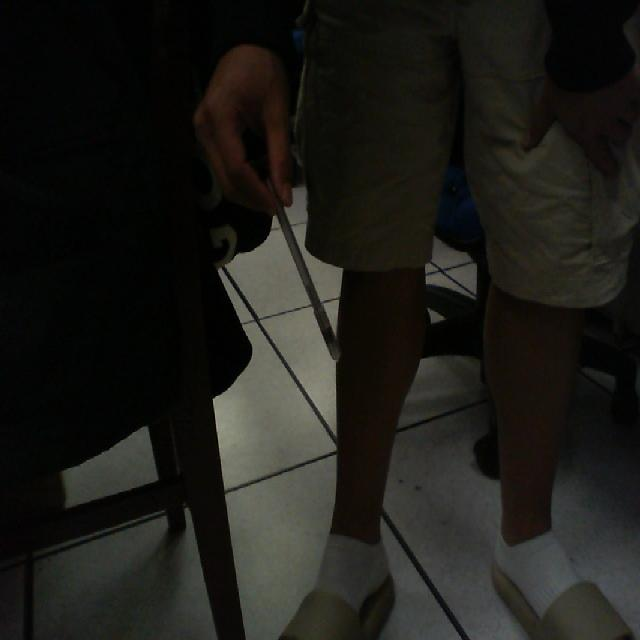Pen: (251, 159, 350, 381)
